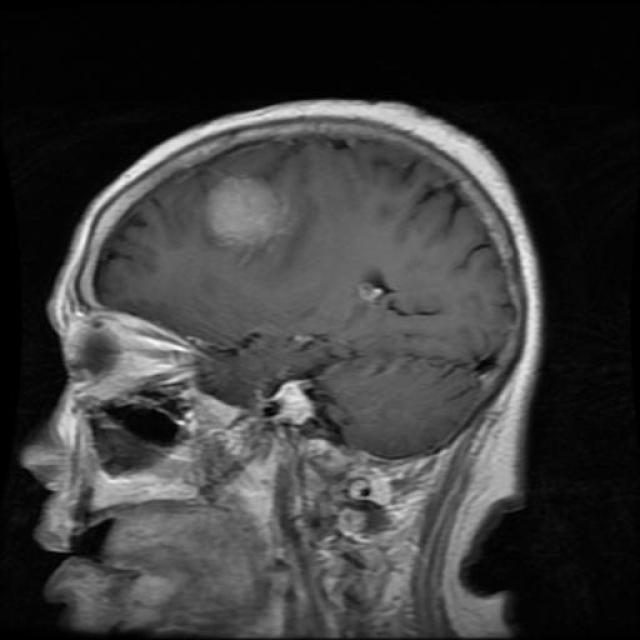meningioma: (205, 179, 278, 248)
